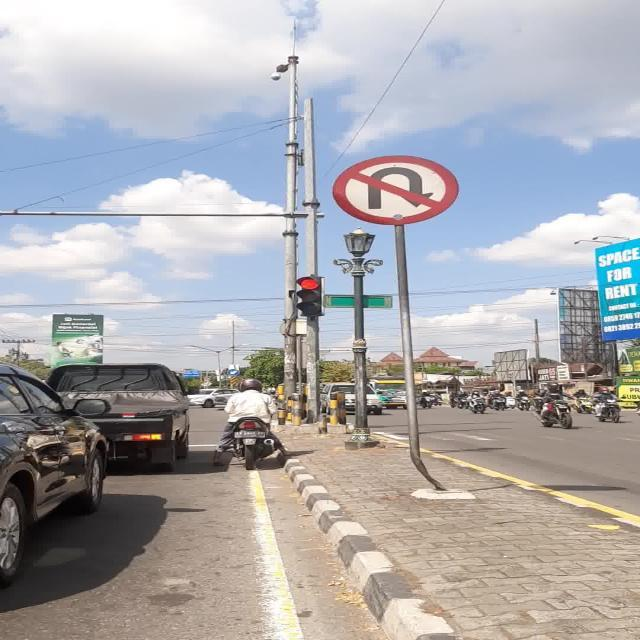Dilarang Putar Balik: (332, 156, 460, 226)
